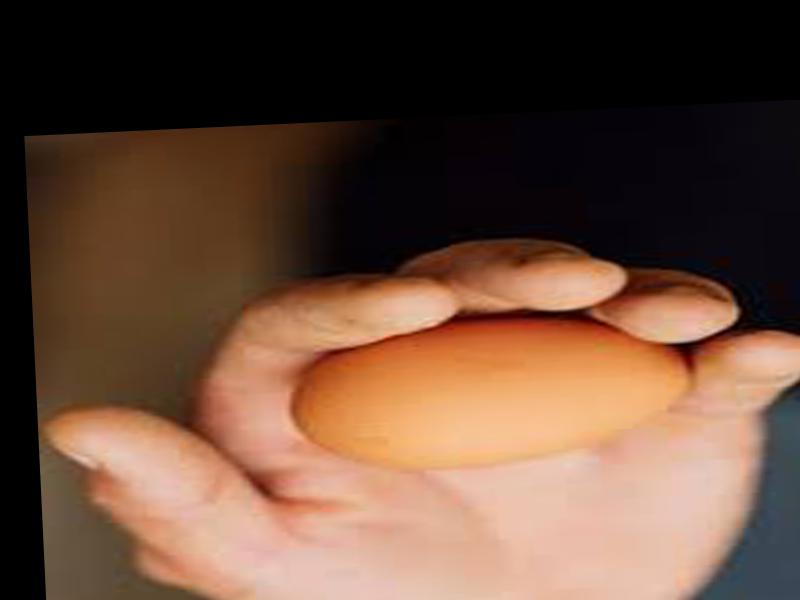Eggs: (292, 314, 696, 474)
